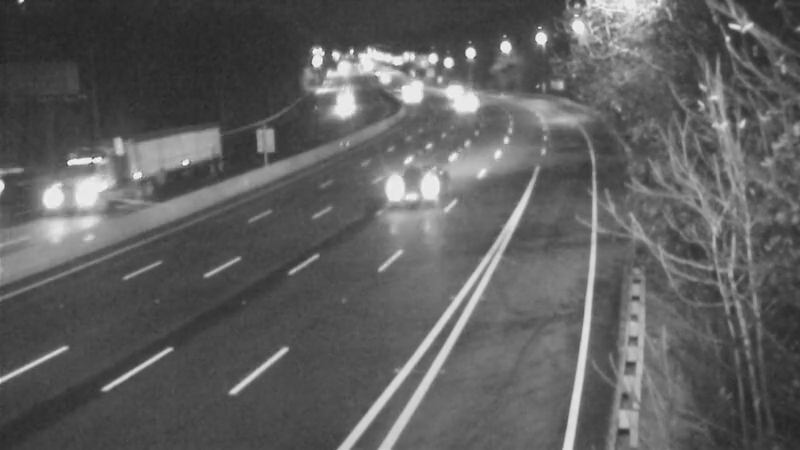vehicle: (381, 150, 461, 230), (70, 143, 150, 223), (1, 147, 66, 227), (428, 69, 478, 119), (383, 70, 433, 120), (438, 81, 488, 131), (319, 79, 369, 129)
